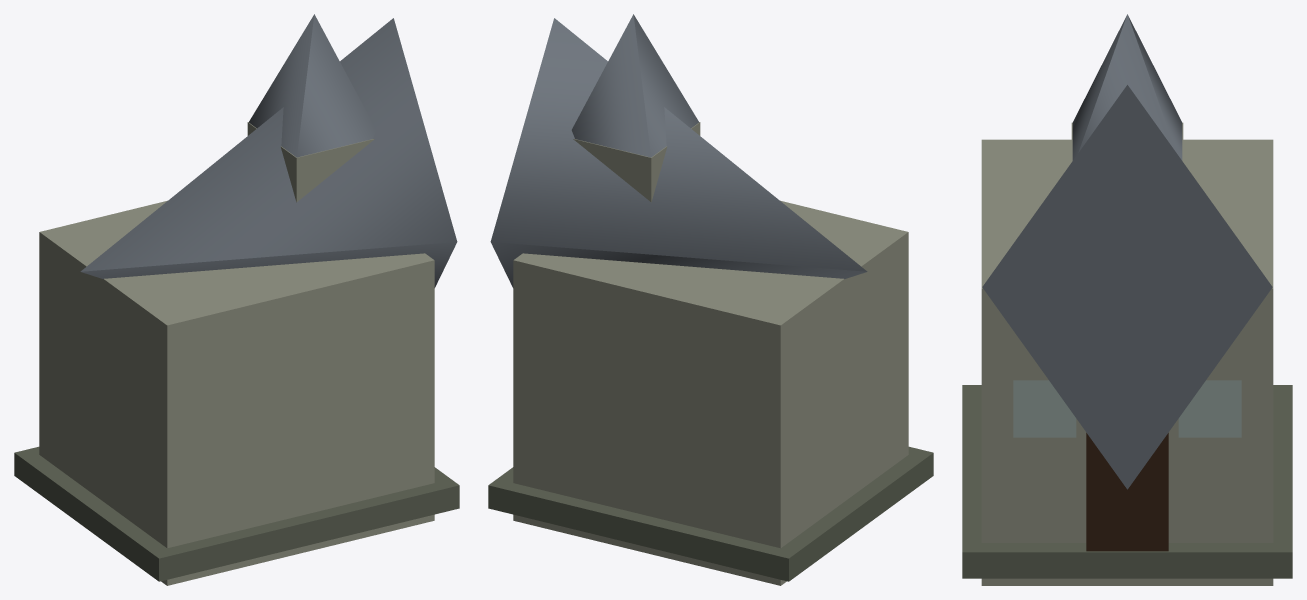
Rendered from church.glb.
3 views of the same model, side by side, from view 1: azimuth 30°, elevation 25°; view 2: azimuth 150°, elevation 25°; view 3: azimuth 270°, elevation 25° (orthographic). The views are drawn at different scales.
Visible parts, largest first — view 1: walls, roof, foundation, steeple, bellTower; view 2: walls, roof, foundation, steeple, bellTower; view 3: roof, walls, foundation, frontDoor, steeple, windowLeft, windowRight.
Part boxes in pixels (x1,y1,x2,y2): walls: (39,200,434,585); roof: (80,18,457,287); foundation: (14,446,459,581); steeple: (249,14,376,157); bellTower: (247,122,374,202); walls: (513,200,908,585); roof: (490,18,867,287); foundation: (488,446,933,581); steeple: (571,14,698,157); bellTower: (573,122,700,202); roof: (982,85,1272,489); walls: (981,139,1273,585); foundation: (962,385,1292,578); frontDoor: (1086,433,1168,551); steeple: (1072,14,1182,160); windowLeft: (1013,380,1075,437); windowRight: (1179,380,1241,437).
Bounding box in the file's own units: 1.7 × 2.46 × 1.36.
